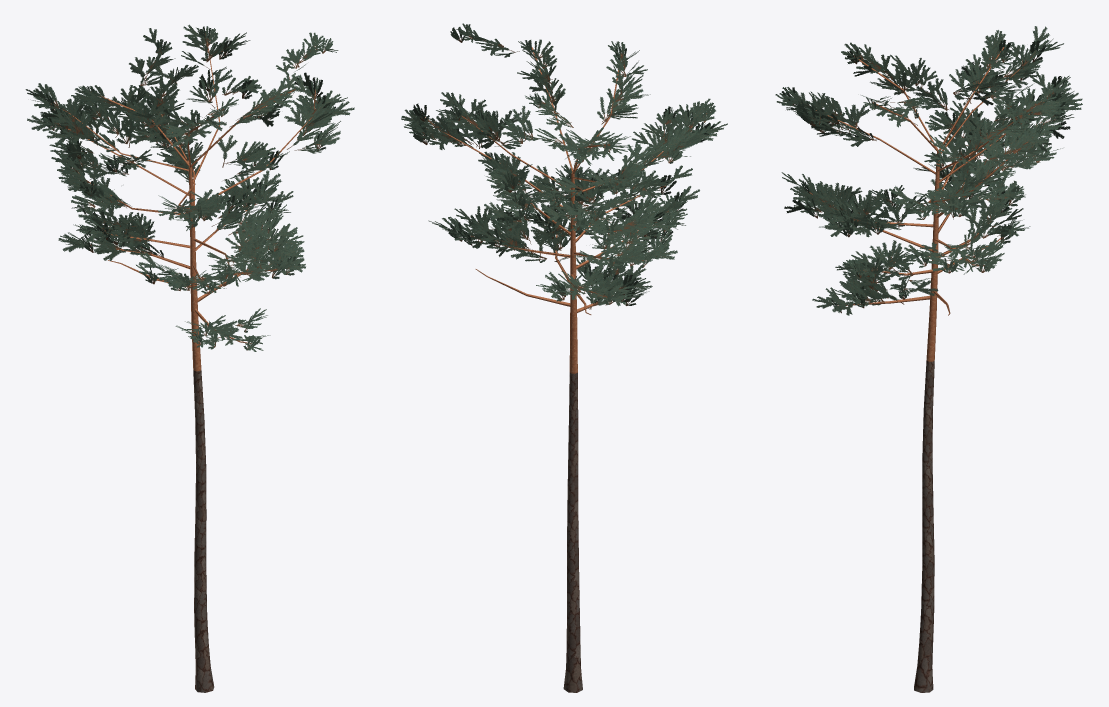
File: pine_a_LOD1.fbx
3 views of the same model, side by side, from view 1: azimuth 30°, elevation 25°; view 2: azimuth 150°, elevation 25°; view 3: azimuth 270°, elevation 25° (orthographic). The views are drawn at different scales.
Visible parts, largest first — view 1: Pine_A_LOD1_Foliage, Pine_A_LOD1_Bark; view 2: Pine_A_LOD1_Foliage, Pine_A_LOD1_Bark; view 3: Pine_A_LOD1_Foliage, Pine_A_LOD1_Bark.
Part boxes in pixels (<box>): Pine_A_LOD1_Foliage: <box>25,24,354,351</box>; Pine_A_LOD1_Bark: <box>51,33,315,692</box>; Pine_A_LOD1_Foliage: <box>401,23,727,309</box>; Pine_A_LOD1_Bark: <box>425,47,706,692</box>; Pine_A_LOD1_Foliage: <box>775,26,1082,315</box>; Pine_A_LOD1_Bark: <box>809,47,1044,692</box>.
Size of the model in its own units: 10.27 by 21.04 by 9.6.
2 materials, 2 textured.
